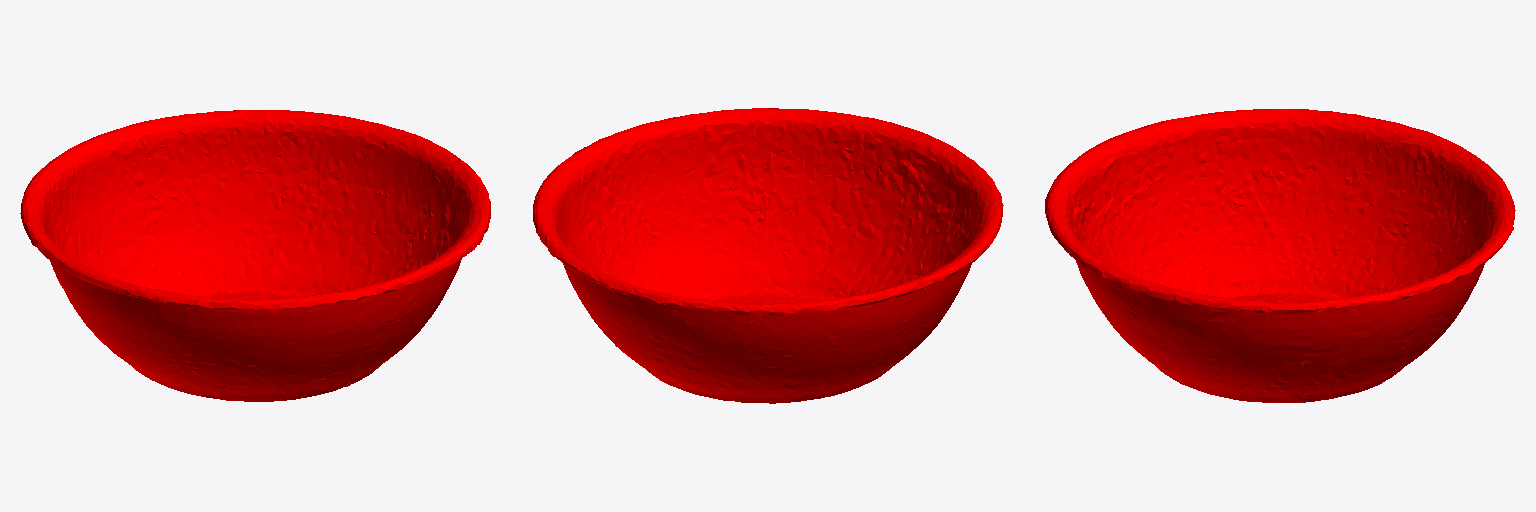
robot.urdf — bowl_red:
<robot name="bowl_red">
	<link name="_name">
		<visual>
			<origin xyz="0.1474002972935411 0.4386218798850483 -0.54479" rpy="0 0 0" />
			<geometry>
				<mesh filename="bowl_red/google_16k/nontextured.obj" scale="10 10 10" />
			</geometry>
			<material name="red_color">
				<color rgba="1.0 0.0 0.0 1.0" />
			</material>
		</visual>
		<collision>
			<geometry>
				<mesh filename="bowl_red/google_16k/nontextured_vhacd.obj" scale="10 10 10" />
			</geometry>
			<origin xyz="0.1474002972935411 0.4386218798850483 -0.54479" rpy="0 0 0" />
		</collision>
		<inertial>
			<mass value="1.0" />
			<inertia ixx="1.0" ixy="0.0" ixz="0.0" iyy="1.0" iyz="0.0" izz="1.0" />
		</inertial>
	</link>
</robot>

--- Facts derived from the render (not from the file) ---
Views: 3 orthographic renders of the robot side by side, from view 1: azimuth 30°, elevation 25°; view 2: azimuth 150°, elevation 25°; view 3: azimuth 270°, elevation 25°.
Model bowl_red with 1 links and 0 joints (none), rooted at _name, posed every joint at zero.
Visible links, largest first — view 1: _name; view 2: _name; view 3: _name.
Boxes of the visible links, <box> form: _name: <box>20,110,490,401</box>; _name: <box>533,108,1003,403</box>; _name: <box>1045,109,1515,402</box>.
Size in the robot's own frame: 1.61 by 1.61 by 0.5501 metres.
Meshes: 1 distinct files referenced, 1 mesh visuals loaded (1 OBJ).